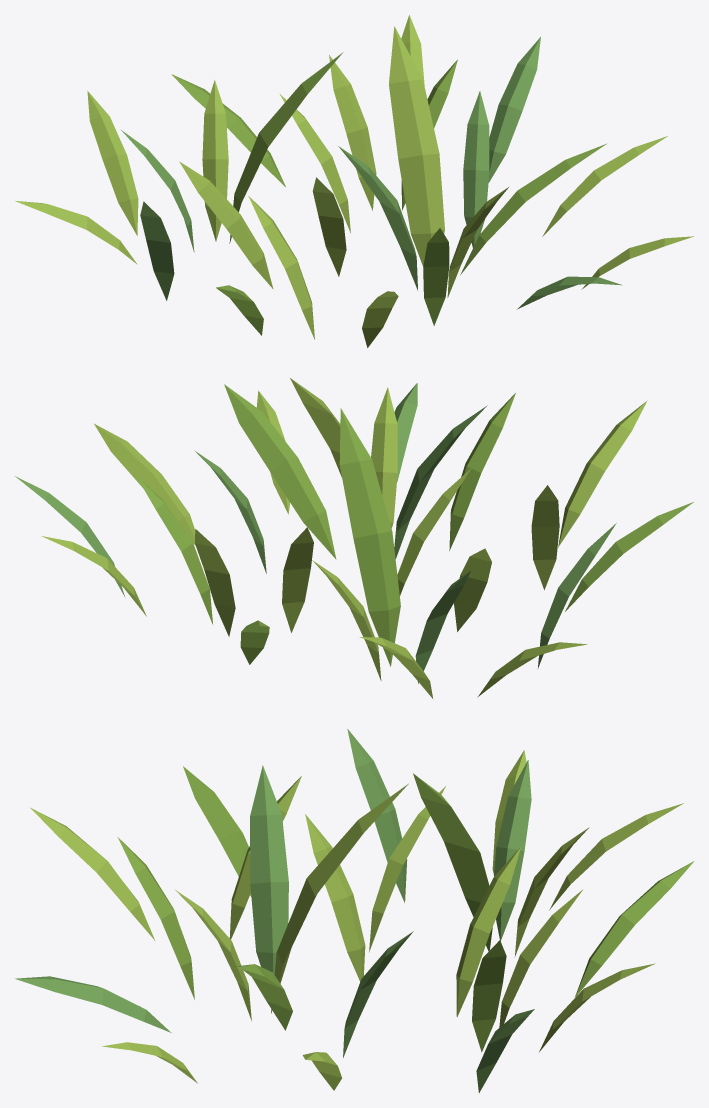
Rendered from grass.glb.
3 renders of one model, top to bottom at view 1: azimuth 30°, elevation 25°; view 2: azimuth 150°, elevation 25°; view 3: azimuth 270°, elevation 25°, orthographic. The views are drawn at different scales.
Parts seen in each view (by area): view 1: grass; view 2: grass; view 3: grass.
Part boxes in pixels (x1=…): grass: x1=14, y1=15, x2=693, y2=347; grass: x1=15, y1=378, x2=694, y2=698; grass: x1=15, y1=729, x2=694, y2=1092.
Size of the model in its own units: 4.67 by 1.75 by 4.34.
Materials: 1 (1 with a texture image).
